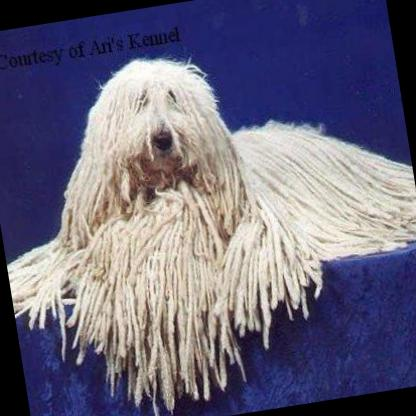komondor: (0, 16, 416, 416)
